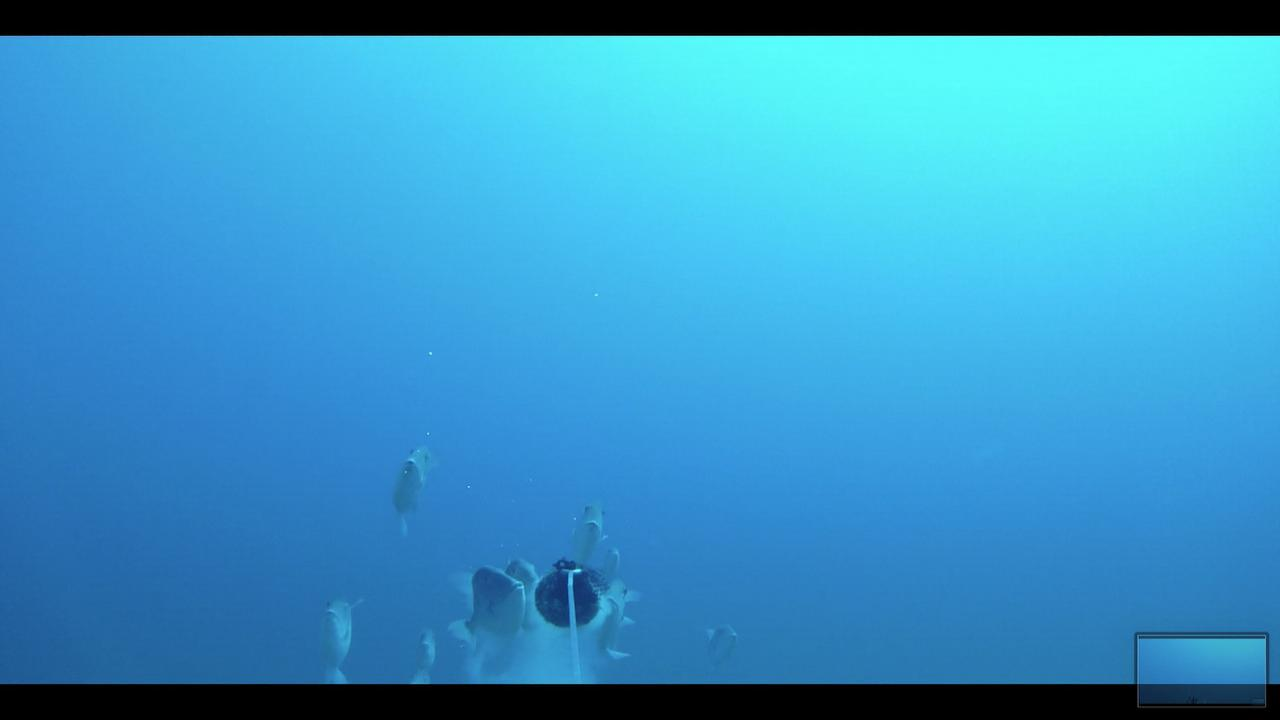balistes: (436, 560, 526, 652), (392, 436, 440, 538), (317, 584, 368, 680), (594, 574, 640, 667), (571, 489, 614, 575), (495, 553, 543, 611), (402, 625, 442, 684)
